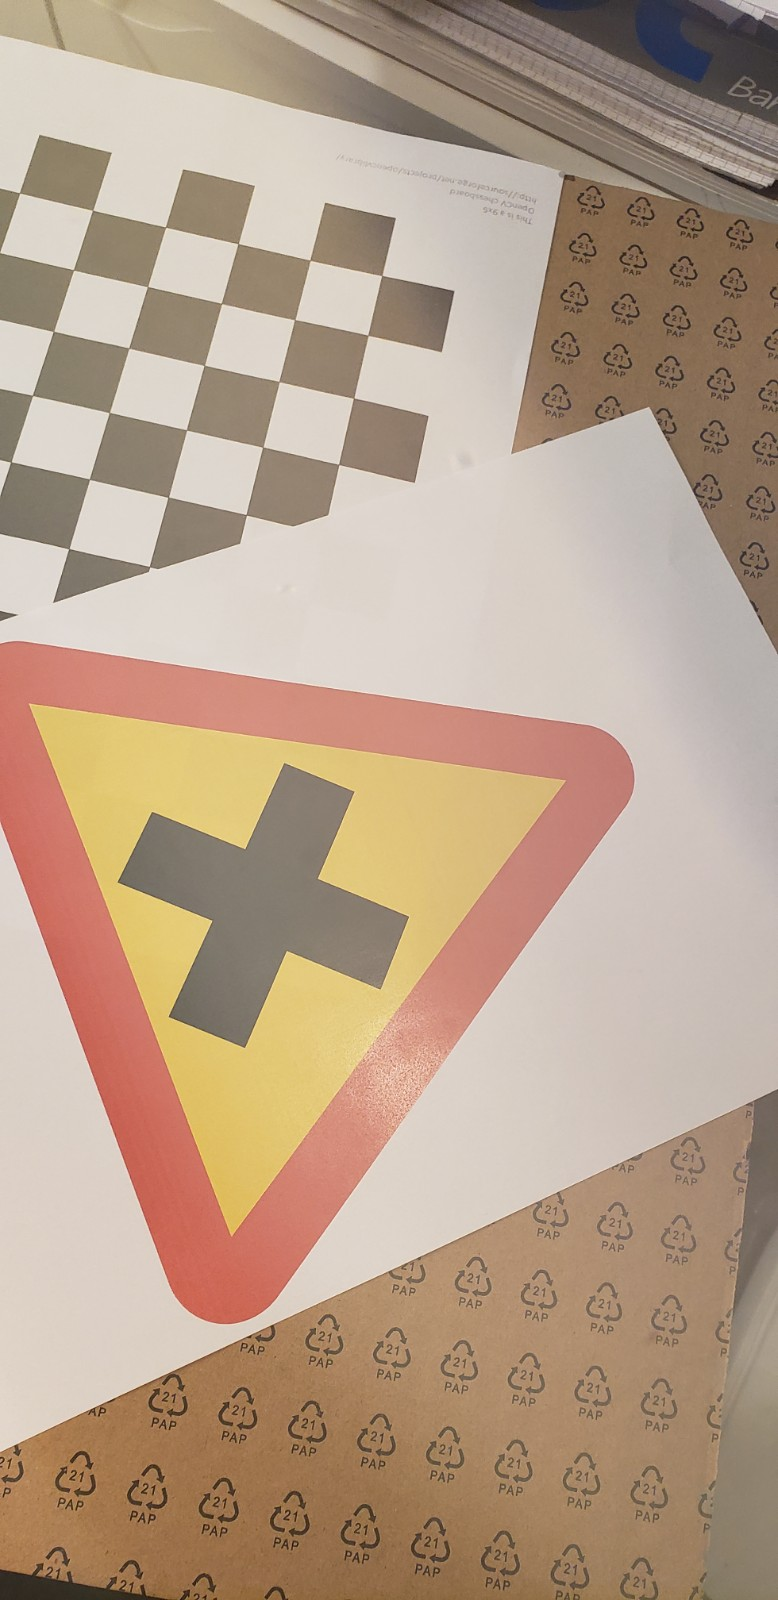junction: (5, 607, 638, 1370)
